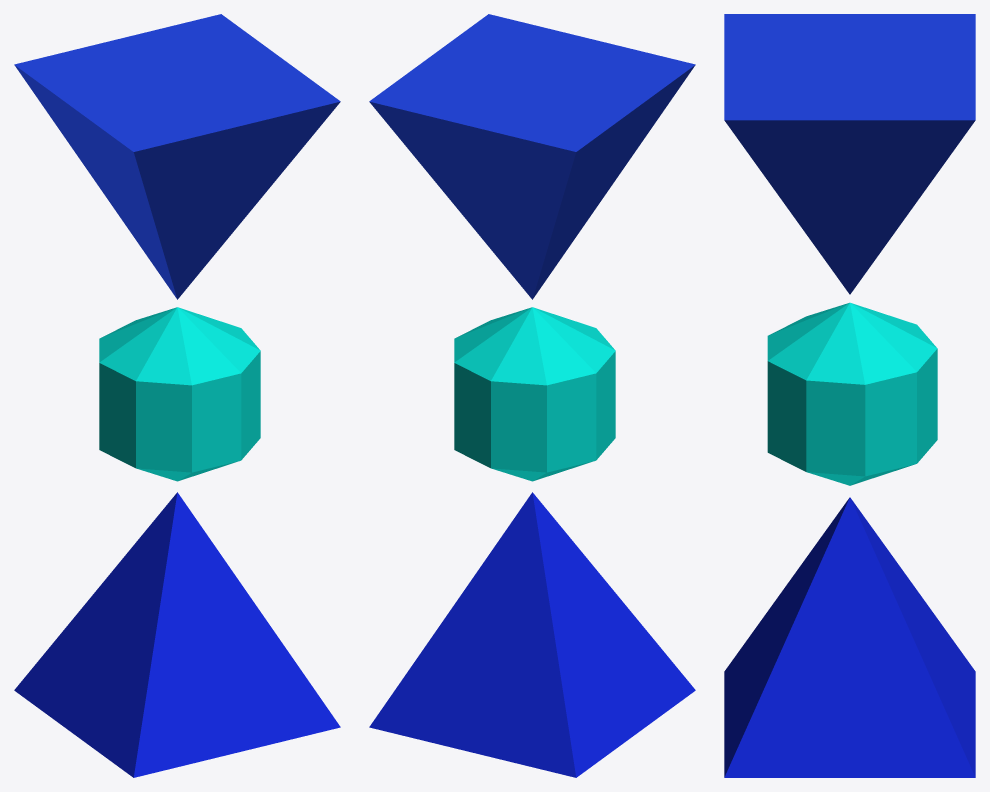
The model's file is gravity rotation totem.fbx.
3 renders of one model, left to right at view 1: azimuth 30°, elevation 25°; view 2: azimuth 150°, elevation 25°; view 3: azimuth 270°, elevation 25°, orthographic. The views are drawn at different scales.
Parts seen in each view (by area): view 1: Cube, Cube.001, Sphere; view 2: Cube, Cube.001, Sphere; view 3: Cube, Cube.001, Sphere.
Boxes of the visible parts, x1,y1,x2,y2 form: Cube: (14, 492, 340, 777); Cube.001: (14, 14, 340, 299); Sphere: (99, 307, 260, 481); Cube: (369, 492, 695, 777); Cube.001: (369, 14, 695, 299); Sphere: (454, 307, 615, 481); Cube: (724, 497, 975, 777); Cube.001: (724, 14, 975, 294); Sphere: (767, 302, 937, 485).
Bounding box in the file's own units: 200 × 577 × 200.
